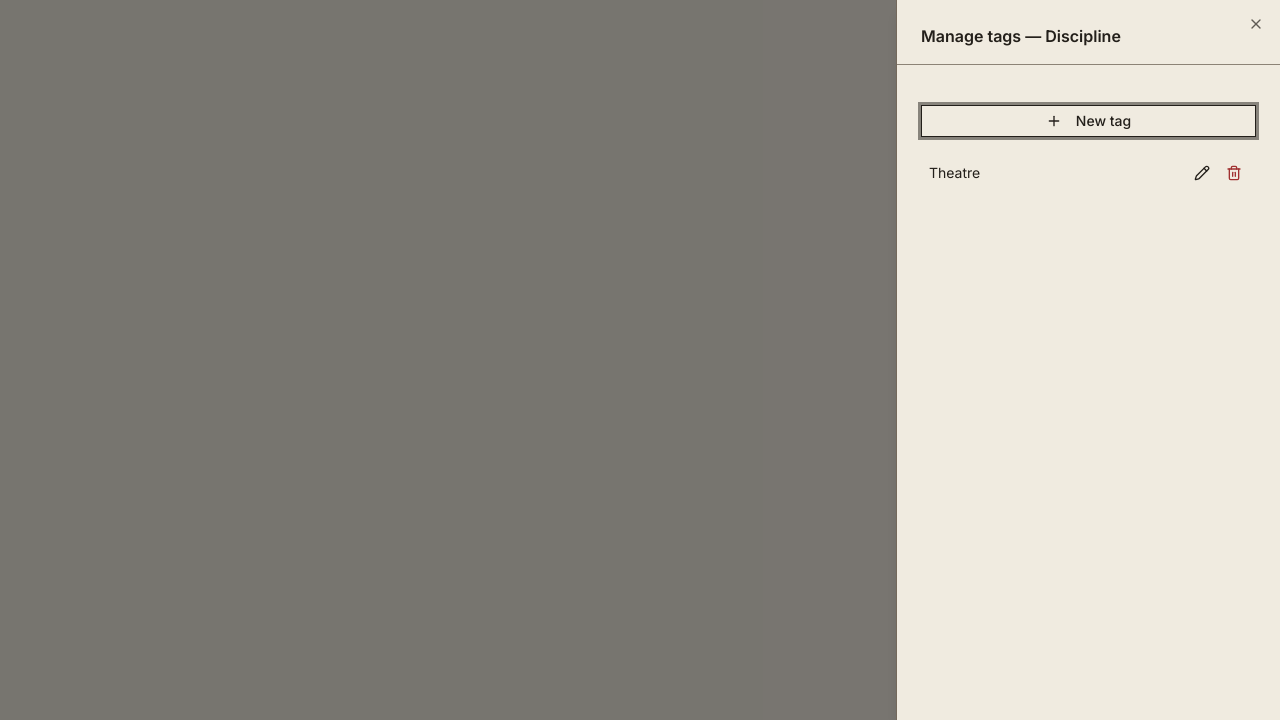
Test: TagManagementSheet › opens TagFormSheet when 'New tag' button is clicked
Click the button "New tag" at (1088, 121), box [921,105,1256,137]
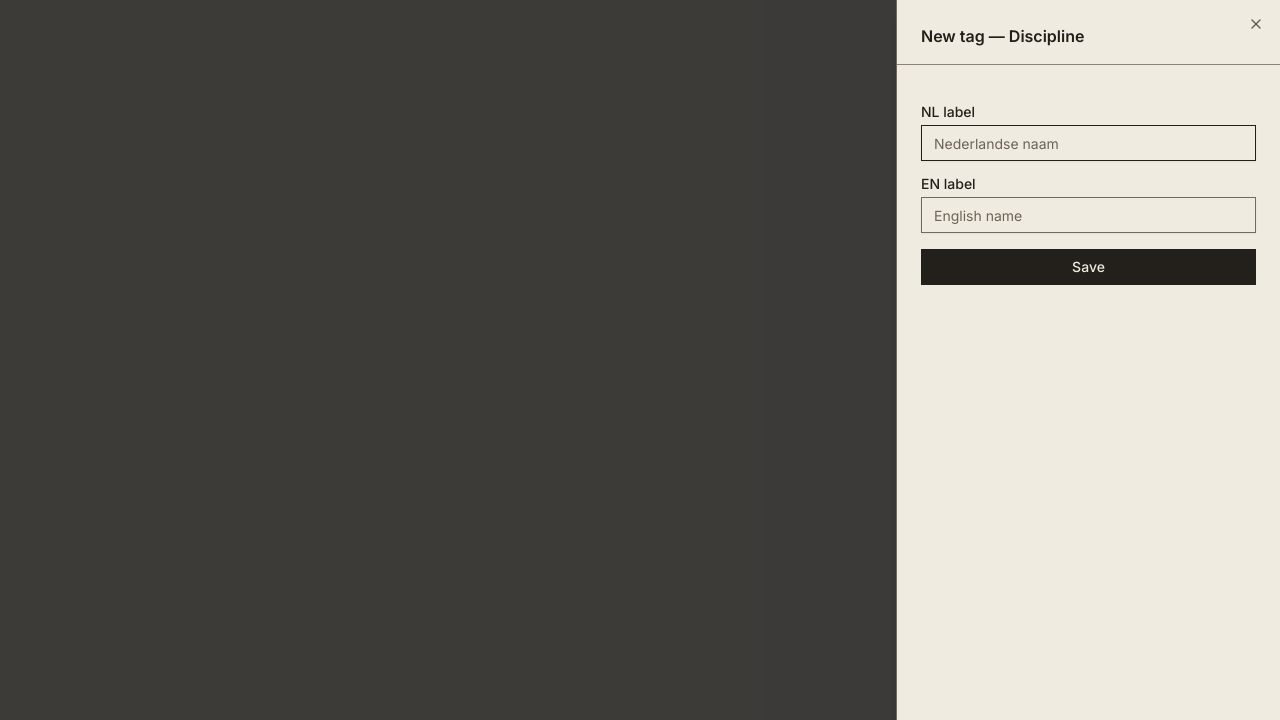
Expected: the field labelled "NL label" is shown, [921,125,1256,161]
